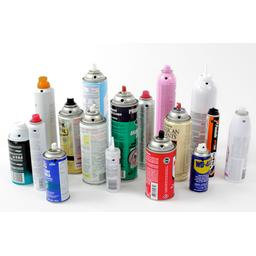metal: (140, 131, 186, 202), (36, 138, 80, 208), (2, 113, 37, 188), (222, 103, 248, 181), (185, 137, 218, 185)
